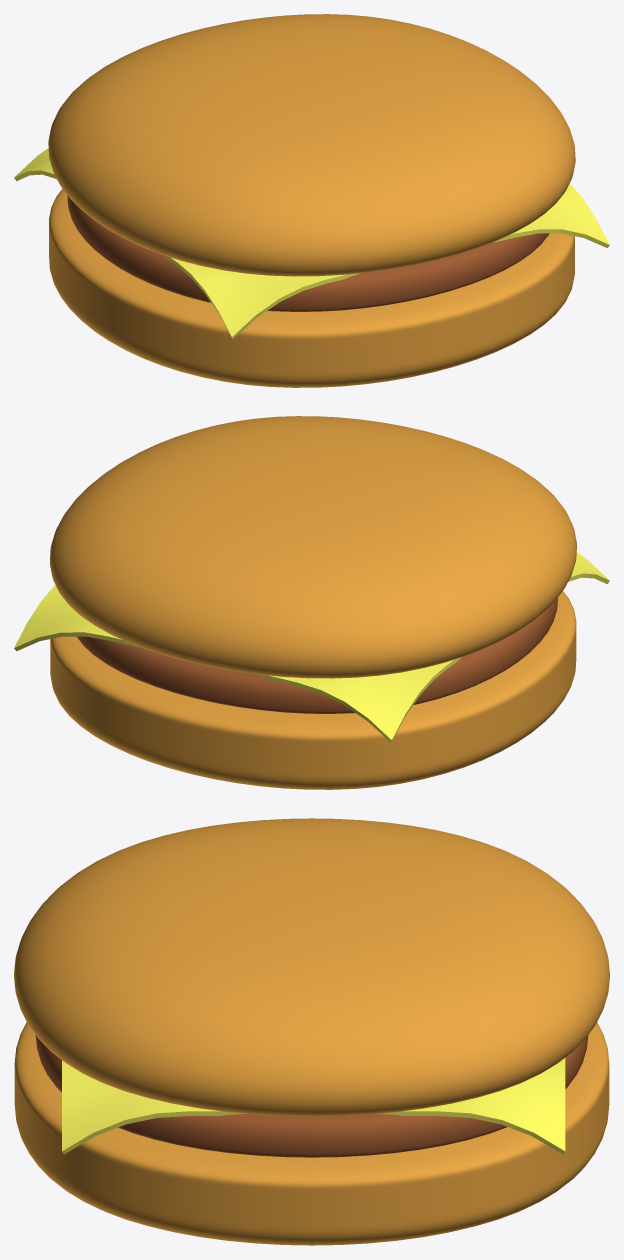
Rendered from hamburger.glb.
3 renders of one model, top to bottom at view 1: azimuth 30°, elevation 25°; view 2: azimuth 150°, elevation 25°; view 3: azimuth 270°, elevation 25°, orthographic. The views are drawn at different scales.
Parts seen in each view (by area): view 1: Cube, Cube.001, Cube.002, Plane; view 2: Cube, Cube.001, Cube.002, Plane; view 3: Cube, Cube.001, Cube.002, Plane.
Boxes of the visible parts, bbox=[...] form: Cube: bbox=[48, 14, 575, 276]; Cube.001: bbox=[49, 189, 574, 387]; Cube.002: bbox=[67, 195, 549, 311]; Plane: bbox=[14, 148, 609, 339]; Cube: bbox=[49, 416, 576, 678]; Cube.001: bbox=[50, 591, 576, 789]; Cube.002: bbox=[77, 597, 557, 713]; Plane: bbox=[14, 552, 609, 742]; Cube: bbox=[14, 818, 609, 1116]; Cube.001: bbox=[14, 1022, 609, 1245]; Cube.002: bbox=[35, 1035, 588, 1157]; Plane: bbox=[62, 1058, 565, 1154].
Bounding box in the file's own units: 9.12 × 4.32 × 9.12.
